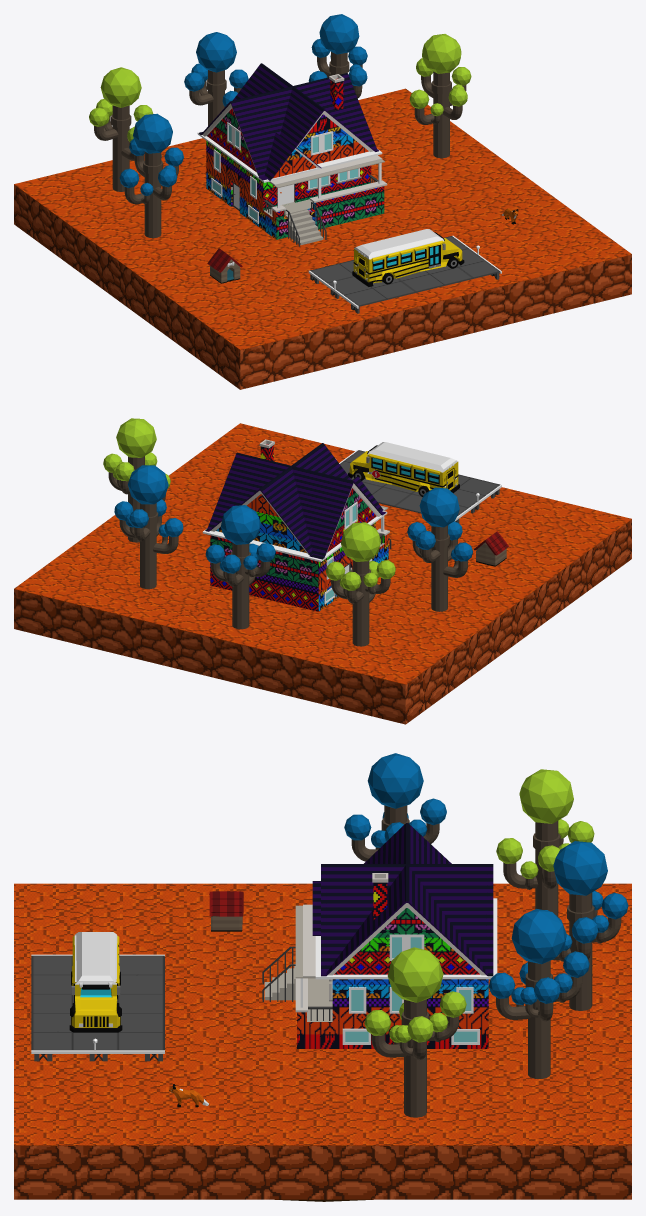
3 renders of one model, top to bottom at view 1: azimuth 30°, elevation 25°; view 2: azimuth 150°, elevation 25°; view 3: azimuth 270°, elevation 25°, orthographic. The views are drawn at different scales.
Parts seen in each view (by area): view 1: Cube.001, Cube.966, VEHICLES_SCHOOL_BUS, OBJRANDOM_DOGHOUSE; view 2: Cube.001, Cube.966, VEHICLES_SCHOOL_BUS, OBJRANDOM_DOGHOUSE; view 3: Cube.001, Cube.966, VEHICLES_SCHOOL_BUS, OBJRANDOM_DOGHOUSE.
Boxes of the visible parts, x1,y1,x2,y2 form: Cube.001: [14, 14, 631, 389]; Cube.966: [197, 63, 387, 246]; VEHICLES_SCHOOL_BUS: [352, 229, 464, 286]; OBJRANDOM_DOGHOUSE: [207, 248, 242, 283]; Cube.001: [14, 418, 631, 724]; Cube.966: [202, 439, 391, 611]; VEHICLES_SCHOOL_BUS: [348, 442, 459, 496]; OBJRANDOM_DOGHOUSE: [473, 531, 508, 566]; Cube.001: [14, 753, 631, 1199]; Cube.966: [262, 823, 497, 1048]; VEHICLES_SCHOOL_BUS: [69, 932, 122, 1032]; OBJRANDOM_DOGHOUSE: [209, 891, 243, 931].
Bounding box in the file's own units: 4000 × 1730 × 4000.
Materials: 46 (8 with a texture image).
